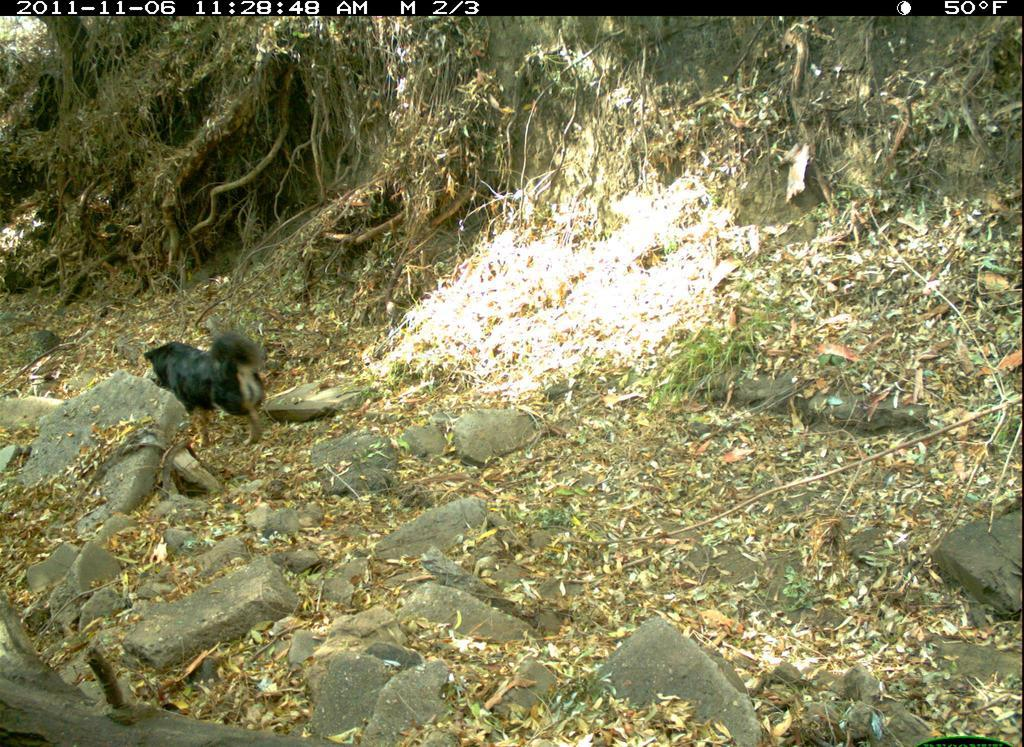dog: (127, 317, 294, 441)
